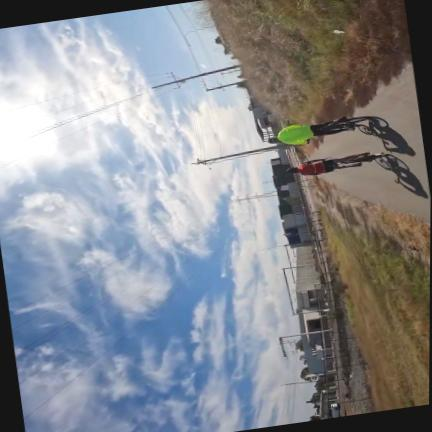Bike_Lane: (323, 63, 431, 224), (309, 131, 382, 158)
